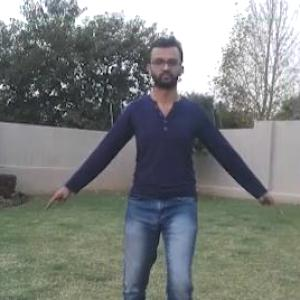land: (20, 26, 299, 299)
